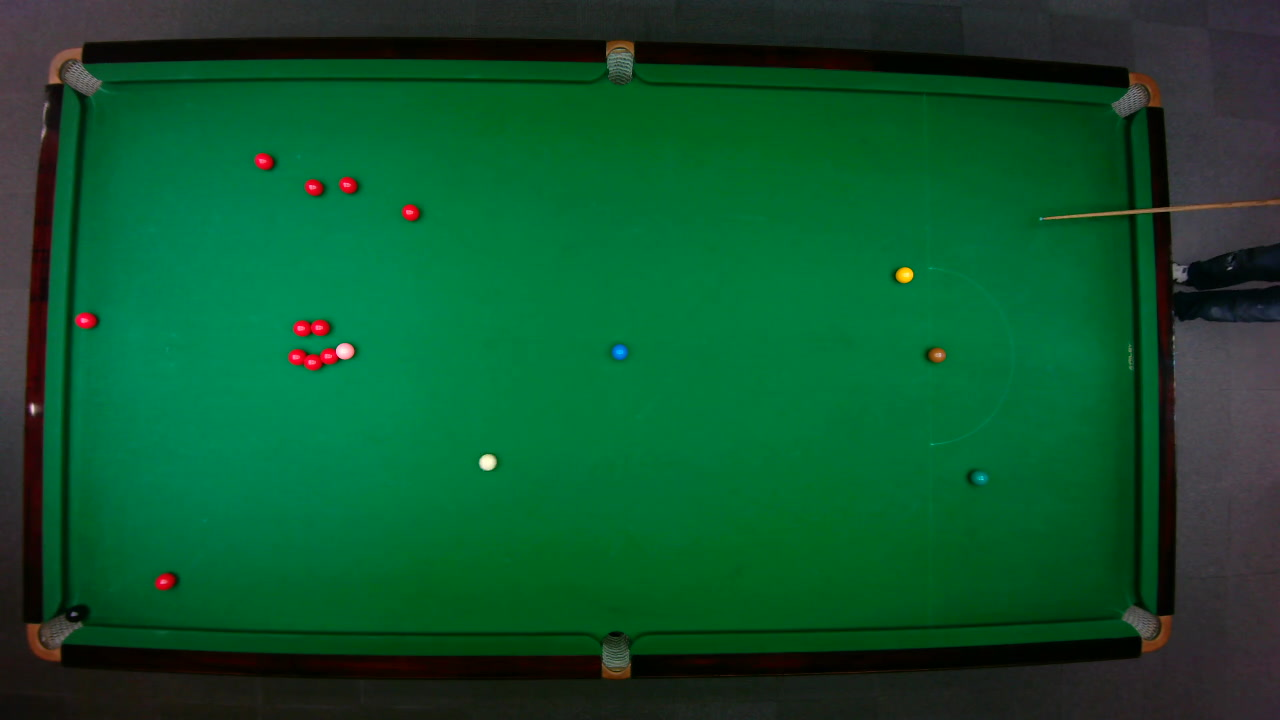bag: (25, 608, 82, 661), (46, 46, 102, 97), (1119, 603, 1172, 652), (1108, 72, 1161, 117), (600, 629, 629, 680), (605, 38, 633, 85)
black: (64, 605, 85, 622)
blue: (610, 343, 628, 360)
brown: (926, 346, 946, 362)
cue: (1036, 197, 1280, 221)
green: (969, 468, 989, 485)
pink: (334, 341, 355, 360)
red: (153, 571, 177, 591), (73, 310, 97, 329), (301, 352, 323, 371), (303, 177, 324, 196), (253, 151, 274, 170), (308, 317, 330, 335), (400, 202, 420, 221), (286, 347, 306, 366), (337, 175, 358, 193), (291, 318, 311, 336), (319, 346, 337, 365)
white: (477, 452, 497, 470)
yellow: (894, 265, 914, 283)
zone: (927, 265, 1014, 446)
